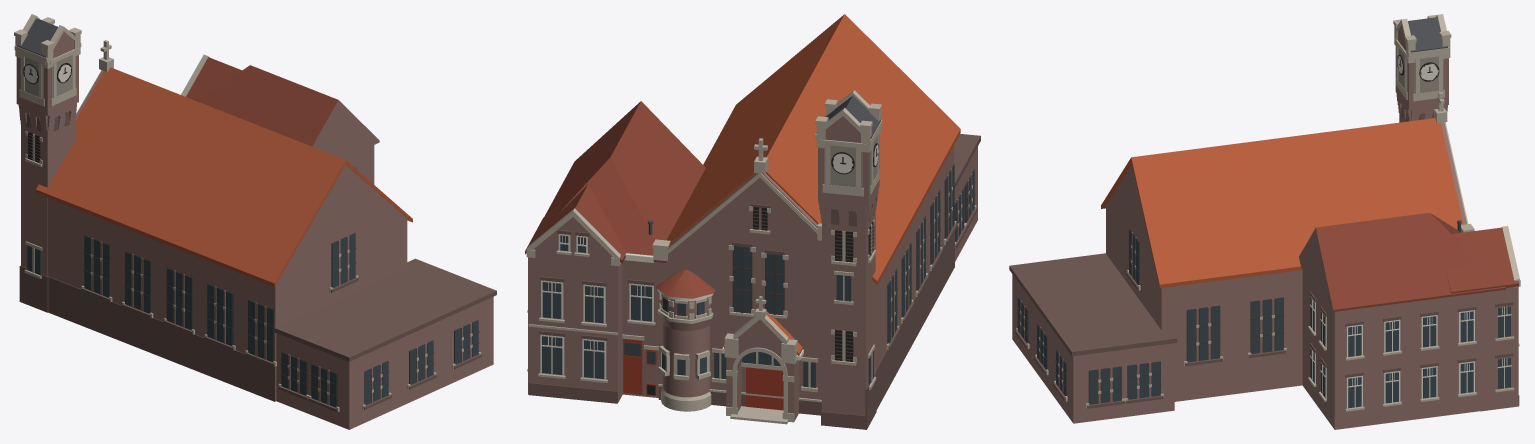
The model's file is petrus-en-paulus-kerk.glb.
3 views of the same model, side by side, from view 1: azimuth 30°, elevation 25°; view 2: azimuth 150°, elevation 25°; view 3: azimuth 270°, elevation 25° (orthographic). The views are drawn at different scales.
Parts seen in each view (by area): view 1: petrus-en-paulus-kerk; view 2: petrus-en-paulus-kerk; view 3: petrus-en-paulus-kerk.
Boxes of the visible parts, left/top/right/bottom form: petrus-en-paulus-kerk: left=14, top=14, right=496, bottom=429; petrus-en-paulus-kerk: left=525, top=14, right=980, bottom=429; petrus-en-paulus-kerk: left=1009, top=14, right=1520, bottom=429.
Size of the model in its own units: 24.67 by 21.13 by 35.29.
